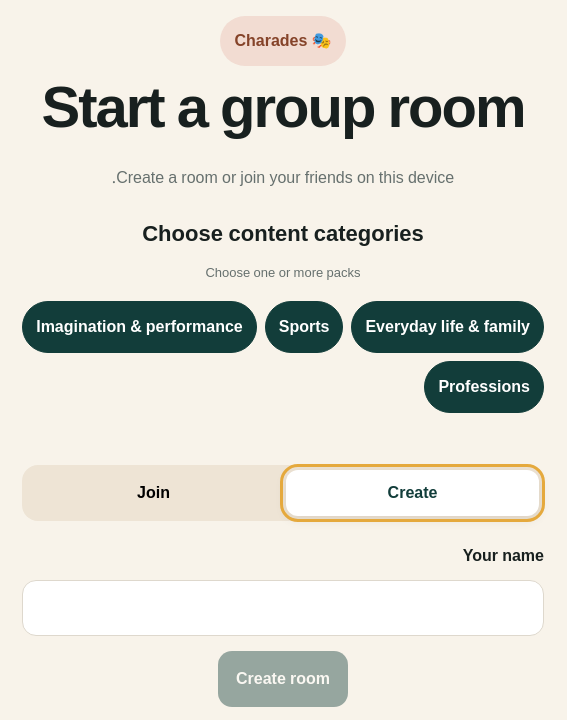
Test: RoomLobby › implements roving keyboard tabs and focuses recovery status
Press Arrowright
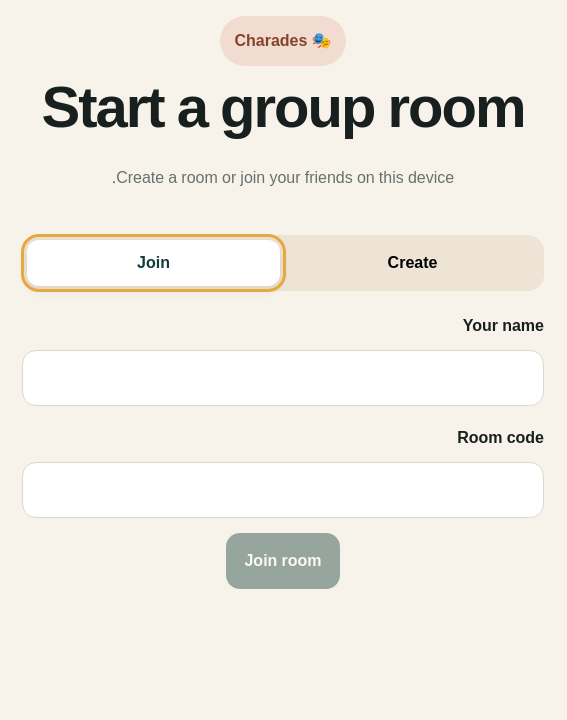
Expected: the panel is shown, [22,310,544,590]
Type "Guest" into the field labelled "Your name".
click(283, 378); type("Guest")  # box [22,350,544,406]
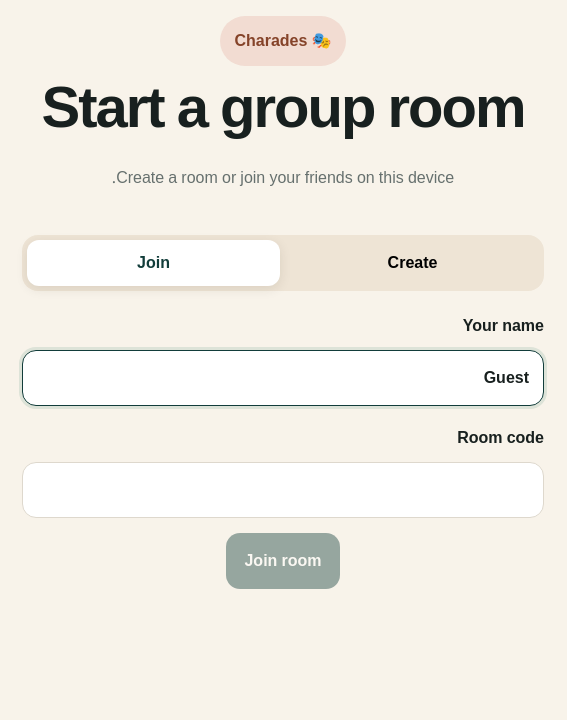
Type "ABC123" into the field labelled "Room code".
click(283, 490); type("ABC123")  # box [22,462,544,518]
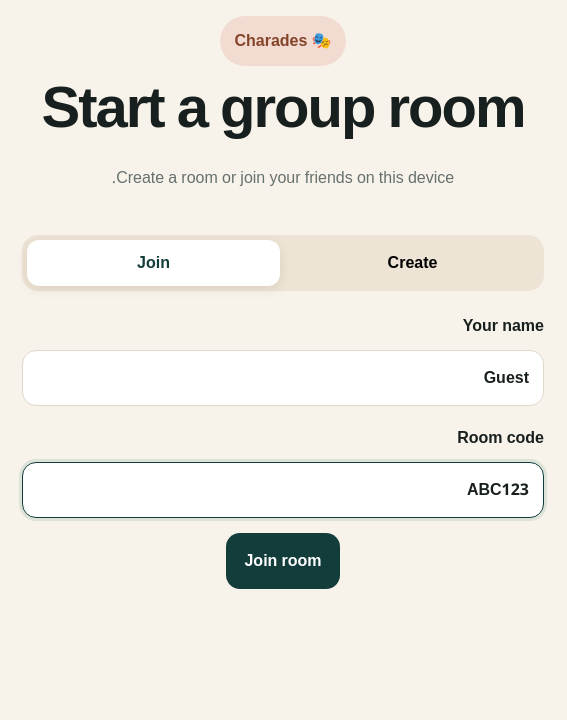
Click the button "Join room".
click(283, 562)  # box [226,534,340,590]
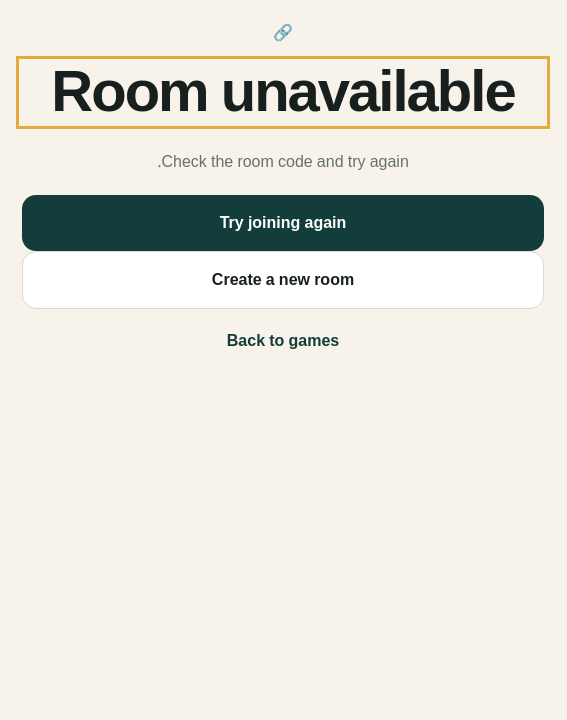
Expected: the message "Check the room code and try again." is shown, [157,146,409,180]
